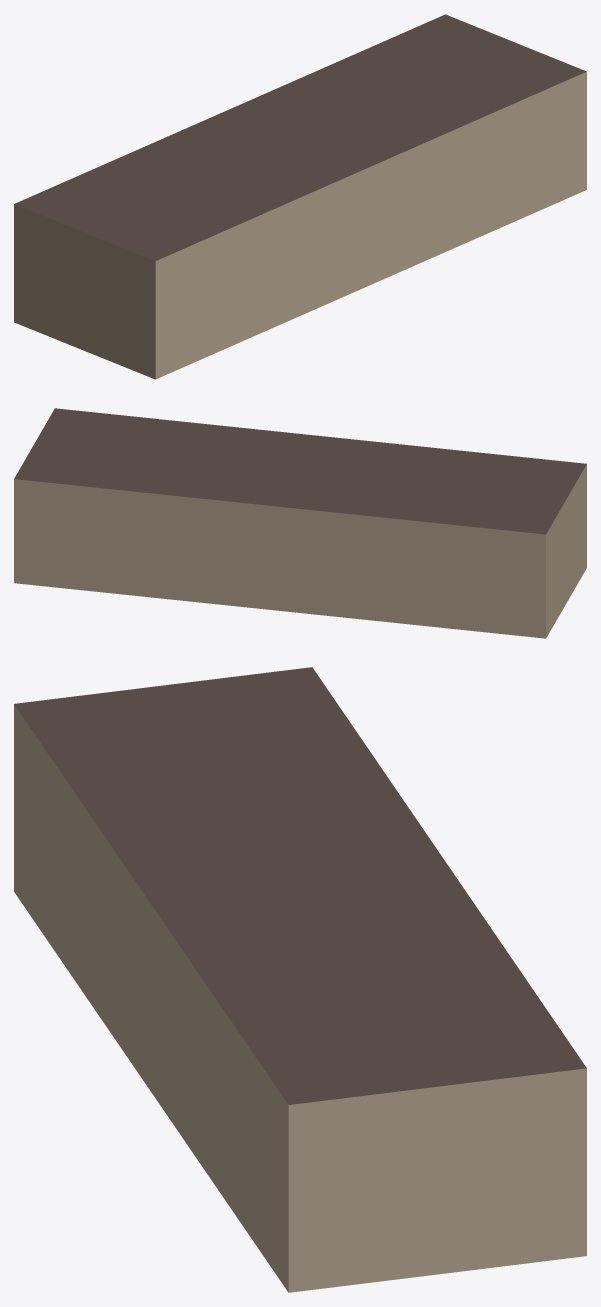
3 views of the same model, one above another, from view 1: azimuth 30°, elevation 25°; view 2: azimuth 150°, elevation 25°; view 3: azimuth 270°, elevation 25° (orthographic). The views are drawn at different scales.
Parts seen in each view (by area): view 1: HP-w299011325; view 2: HP-w299011325; view 3: HP-w299011325.
Boxes of the visible parts, x1,y1,x2,y2 form: HP-w299011325: [14, 14, 586, 379]; HP-w299011325: [14, 408, 586, 638]; HP-w299011325: [14, 667, 586, 1292].
Bounding box in the file's own units: 45.02 × 9 × 24.89.
